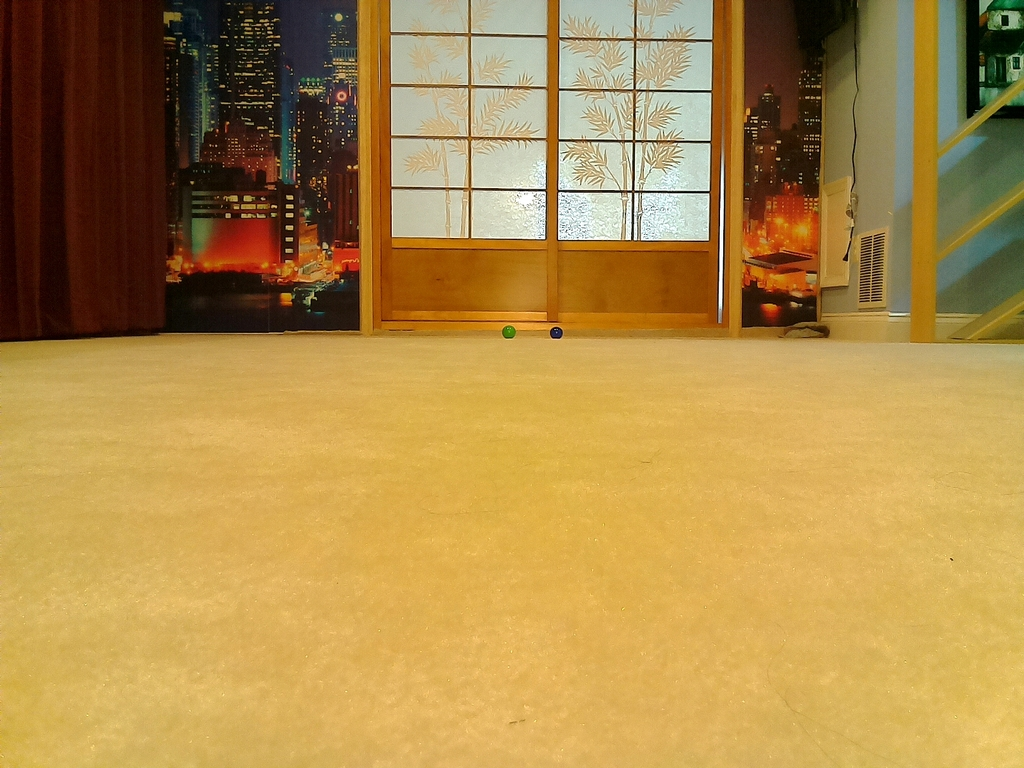ball: (551, 326, 563, 337)
